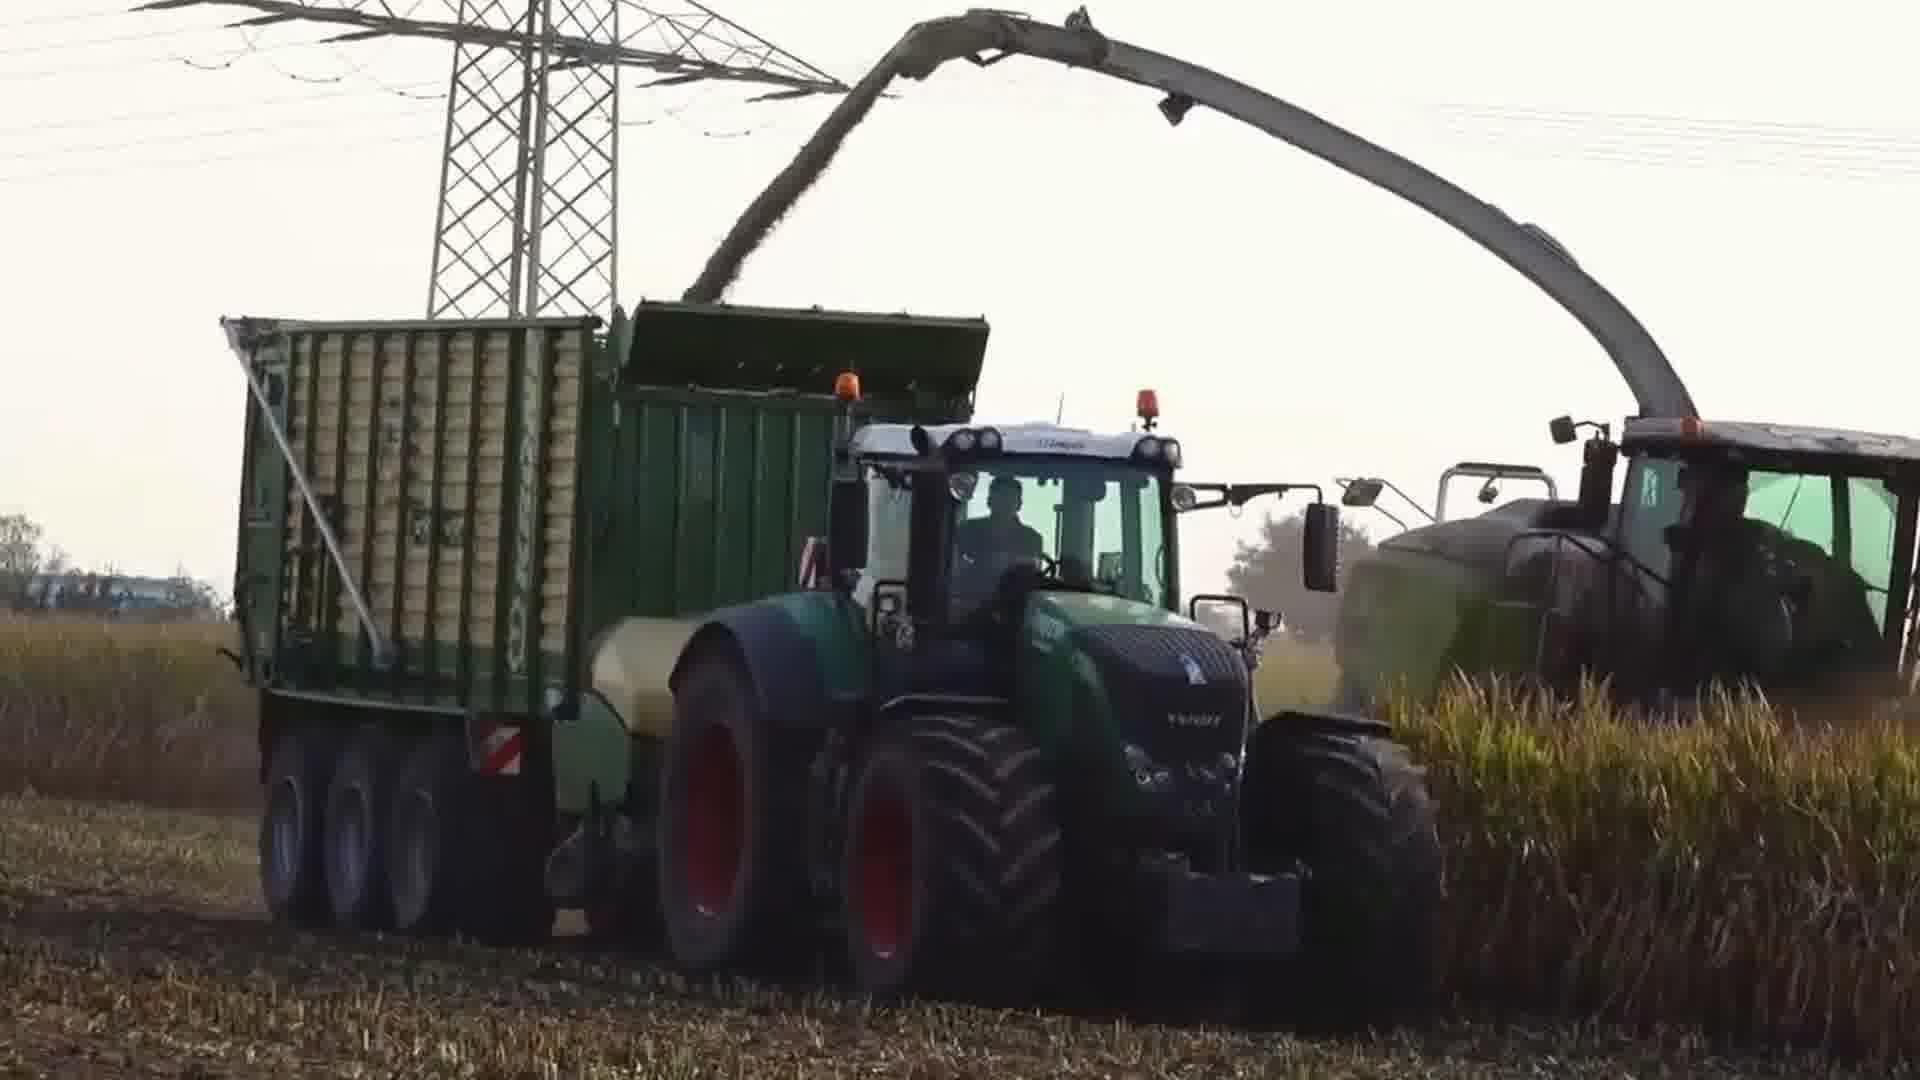combine harvester: (885, 0, 1920, 771)
tractor: (657, 364, 1462, 1033)
trailer: (215, 302, 994, 963)
